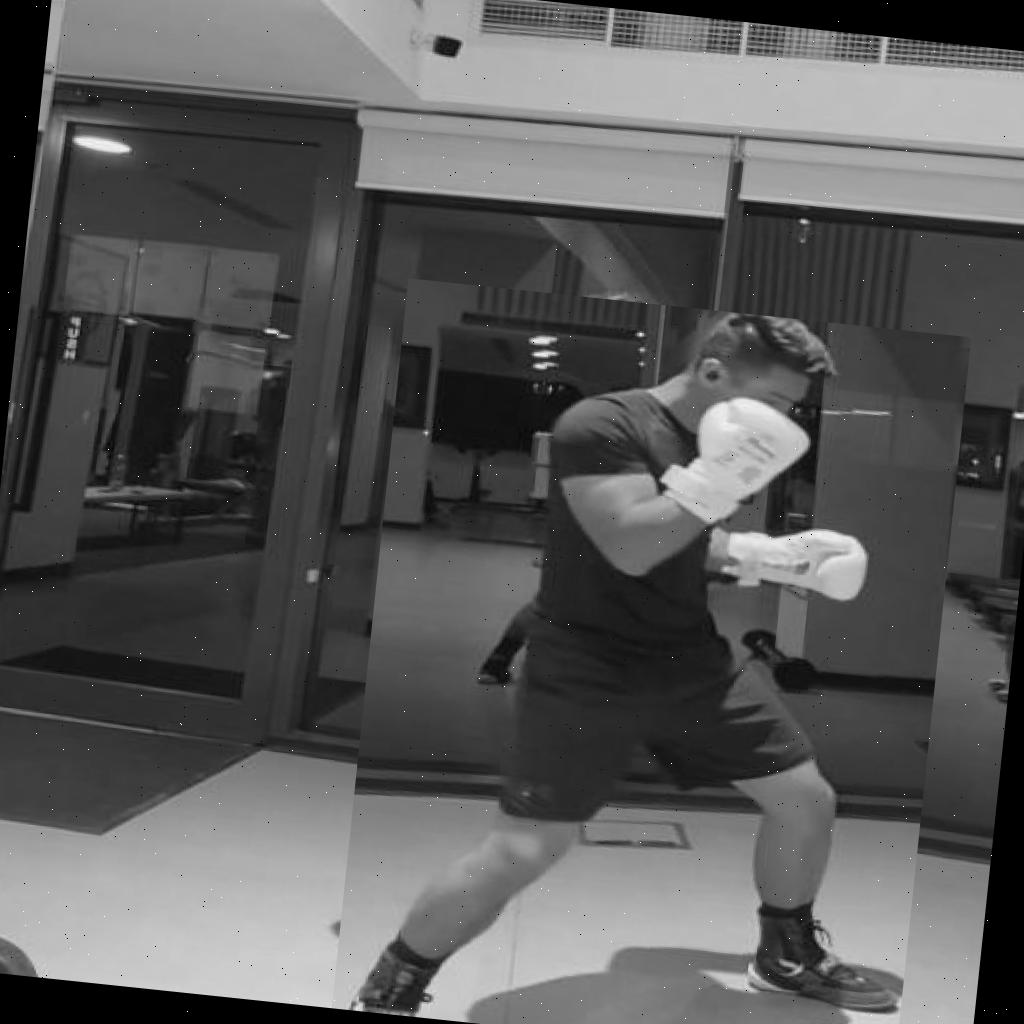no punch: (331, 278, 970, 1024)
